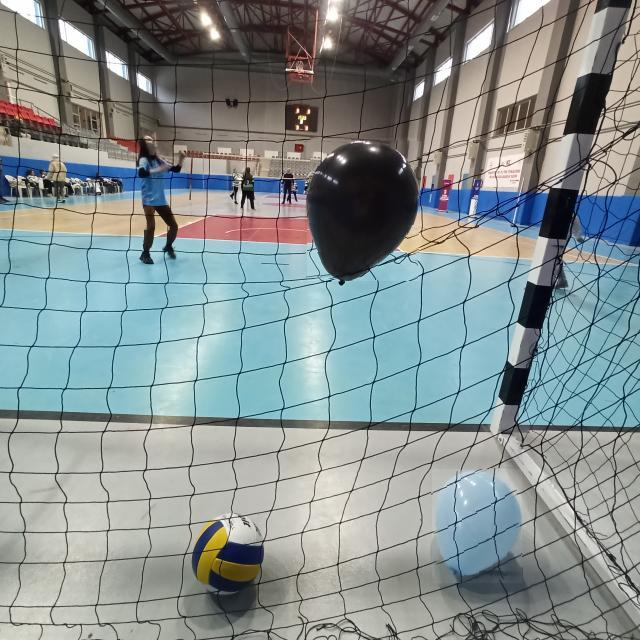balloon: (307, 138, 421, 281), (432, 469, 522, 583)
